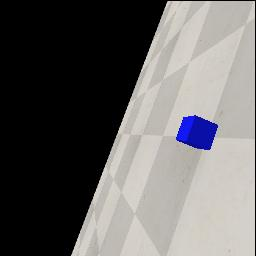box: (176, 115, 218, 150)
